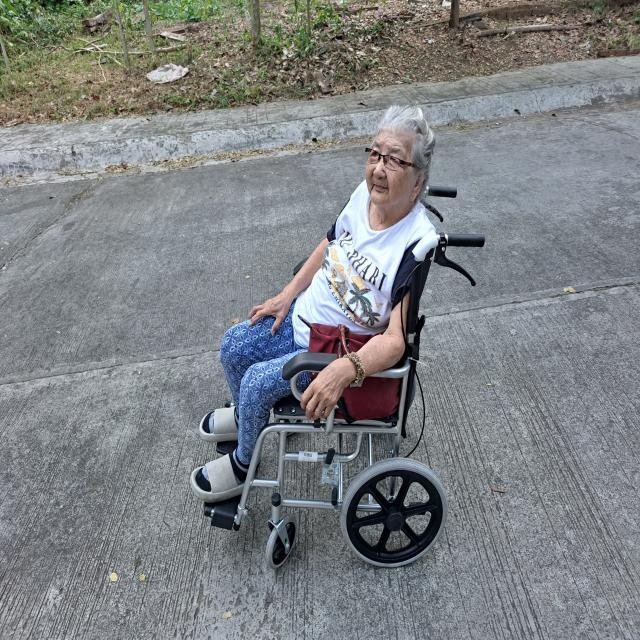wheelchairs: (190, 179, 491, 583)
